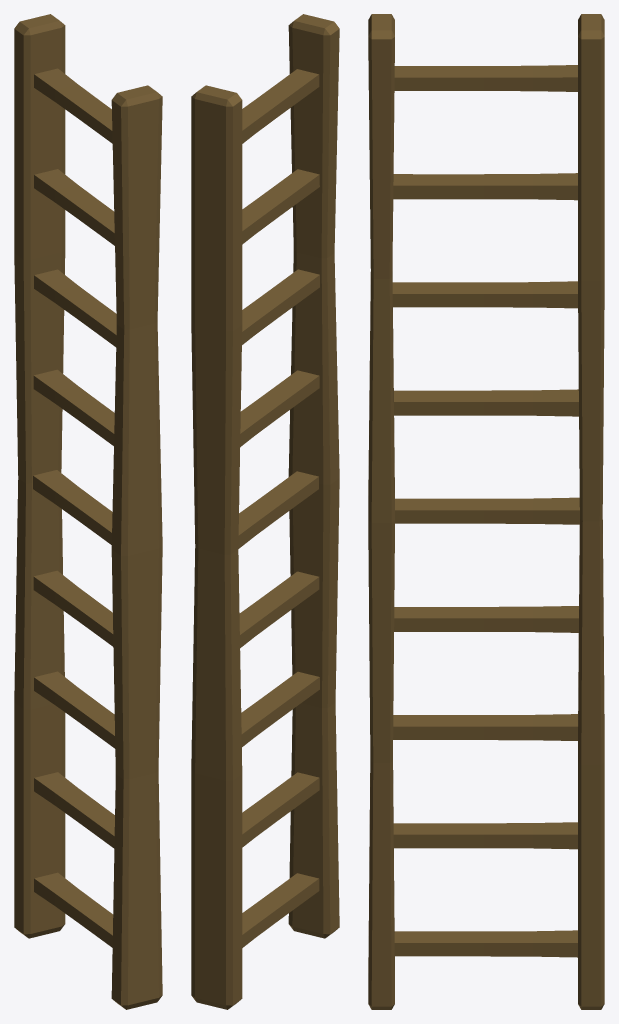
Rendered from ladder.fbx.
3 views of the same model, side by side, from view 1: azimuth 30°, elevation 25°; view 2: azimuth 150°, elevation 25°; view 3: azimuth 270°, elevation 25° (orthographic). The views are drawn at different scales.
Parts seen in each view (by area): view 1: Ladder; view 2: Ladder; view 3: Ladder.
Part boxes in pixels (bbox=[...]): Ladder: bbox=[14, 14, 162, 1009]; Ladder: bbox=[191, 14, 339, 1009]; Ladder: bbox=[368, 14, 604, 1009].
Bounding box in the file's own units: 16.64 × 347 × 75.92.
